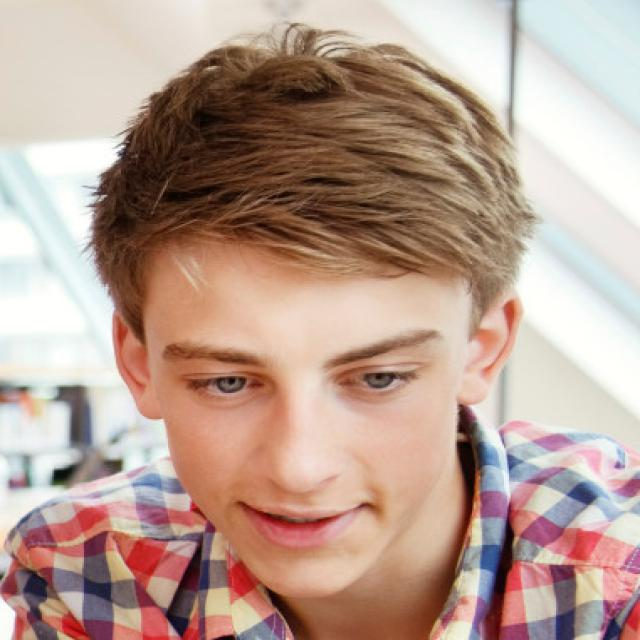Distracted: (140, 253, 468, 589)
